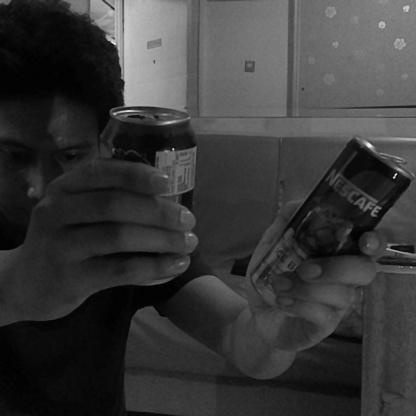alumunium_can: (250, 134, 416, 307), (92, 102, 194, 208)
